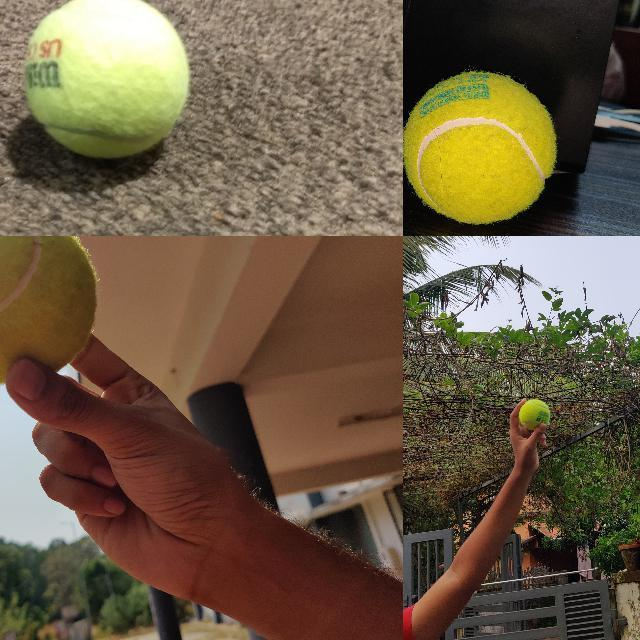tennis-ball: (19, 0, 191, 160), (403, 69, 557, 225), (0, 236, 96, 384), (518, 398, 550, 430)
